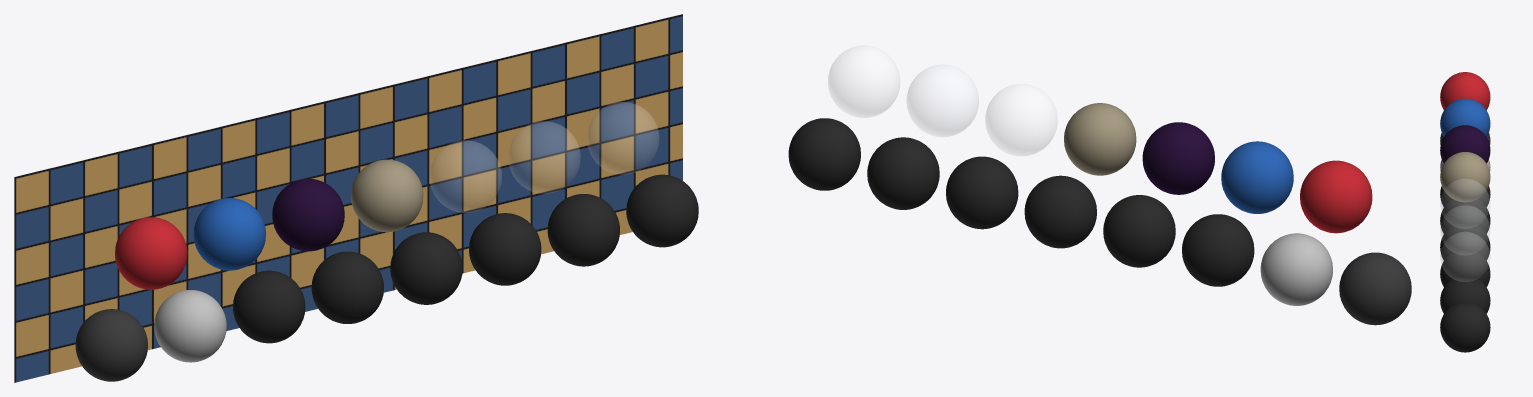
The model's file is material_gallery.gltf.
The picture shows the model from 3 angles, left to right: view 1: azimuth 30°, elevation 25°; view 2: azimuth 150°, elevation 25°; view 3: azimuth 270°, elevation 25°; orthographic projection. The views are drawn at different scales.
Visible parts, largest first — view 1: MaterialGallery; view 2: MaterialGallery; view 3: MaterialGallery.
Part boxes in pixels (box(x1,y1,x2,y2)): MaterialGallery: box(14, 14, 698, 382); MaterialGallery: box(788, 45, 1411, 325); MaterialGallery: box(1440, 72, 1490, 352).
Size of the model in its own units: 6.8 by 2 by 1.
Materials: 16 (1 with a texture image).
